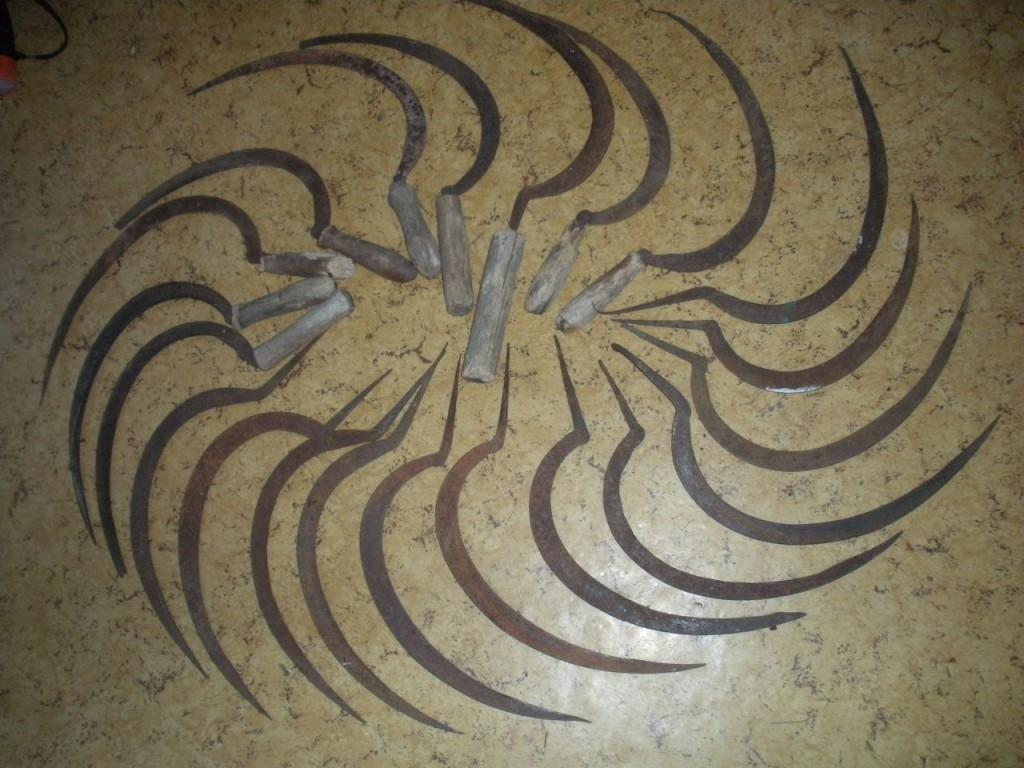foice: (434, 346, 712, 688), (519, 334, 810, 652), (61, 226, 341, 546), (617, 334, 1000, 556), (574, 353, 898, 610), (180, 346, 397, 726), (117, 304, 330, 684), (602, 42, 894, 316), (98, 262, 342, 584), (250, 342, 442, 734), (10, 192, 362, 401), (562, 14, 781, 332), (442, 0, 664, 312), (188, 36, 444, 280), (459, 0, 620, 376), (628, 189, 922, 391), (312, 13, 500, 304), (464, 2, 588, 378), (112, 144, 414, 282), (360, 364, 461, 744)
